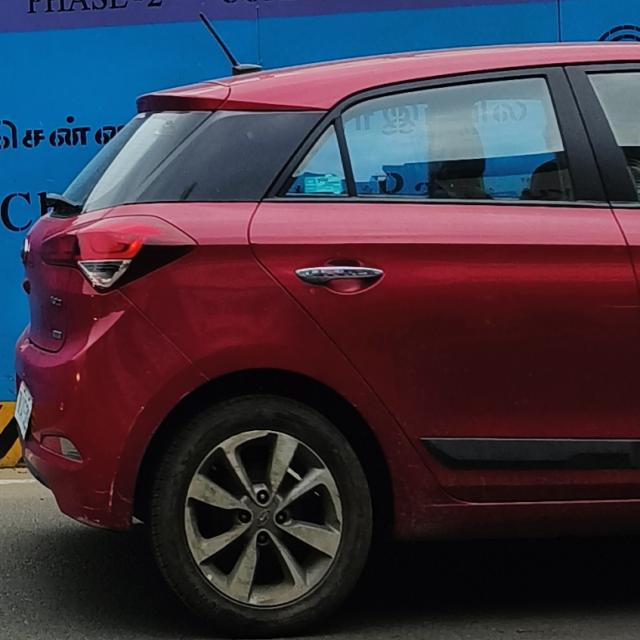scratch: (73, 479, 134, 535), (125, 404, 146, 436), (147, 418, 164, 445), (55, 400, 68, 415), (176, 390, 192, 402)
